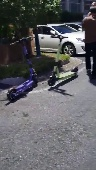beam: (6, 35, 41, 102)
gcooter: (45, 32, 79, 87)
